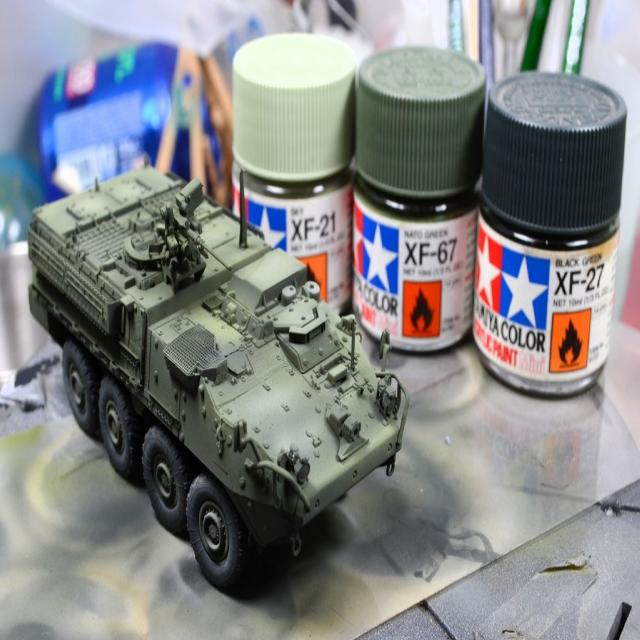tank: (28, 164, 410, 590)
